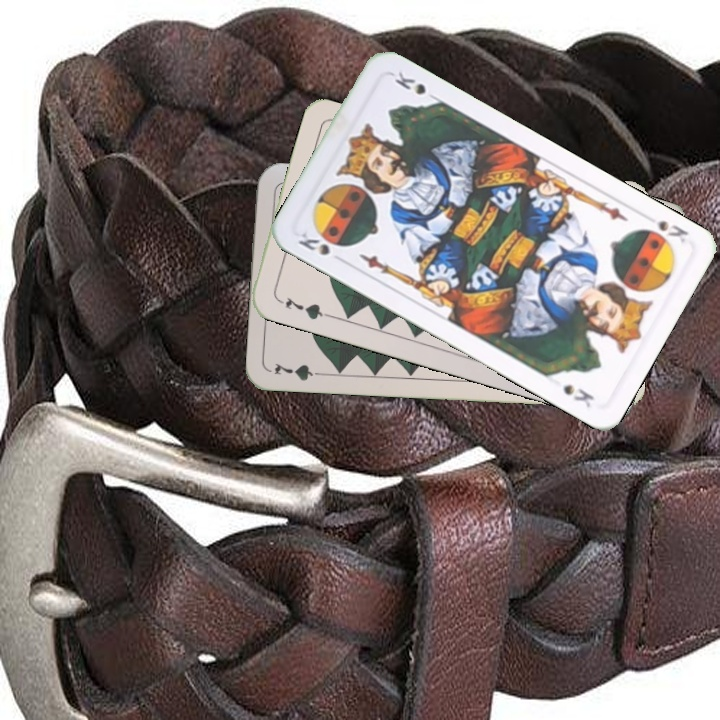G7: (273, 293, 331, 323), (271, 359, 329, 383)
SK: (294, 227, 344, 258), (654, 216, 691, 246)
